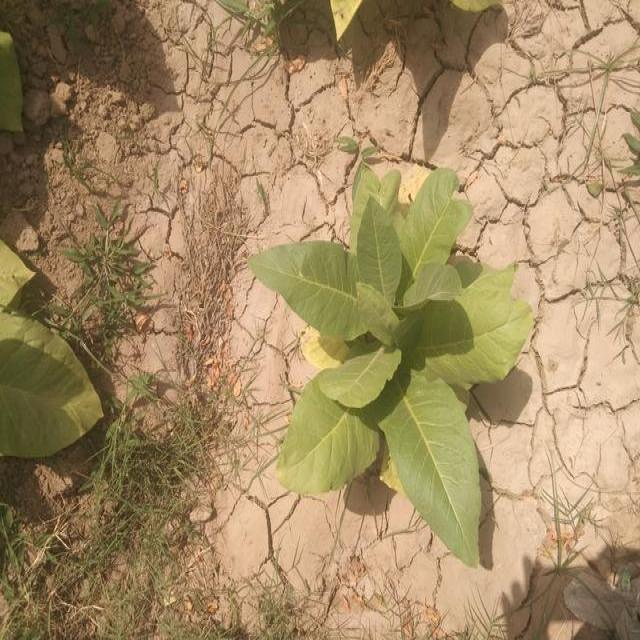crop: (249, 154, 524, 582), (0, 252, 85, 448)
